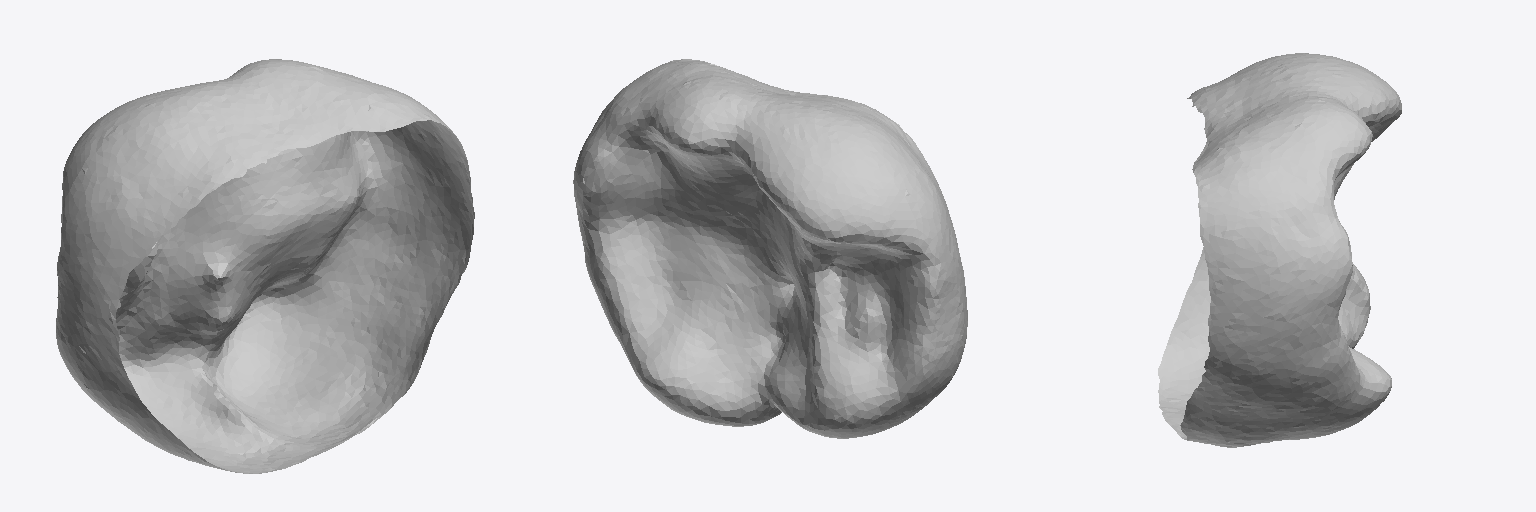
File: MCZ-31759_M798_aligned.obj
3 views of the same model, side by side, from view 1: azimuth 30°, elevation 25°; view 2: azimuth 150°, elevation 25°; view 3: azimuth 270°, elevation 25° (orthographic).
Parts seen in each view (by area): view 1: curobj_export; view 2: curobj_export; view 3: curobj_export.
Part boxes in pixels (x1,y1,x2,y2): curobj_export: (56,59,474,473); curobj_export: (573,59,967,438); curobj_export: (1158,53,1401,447).
Size of the model in its own units: 0.0333 by 0.0287 by 0.0189.